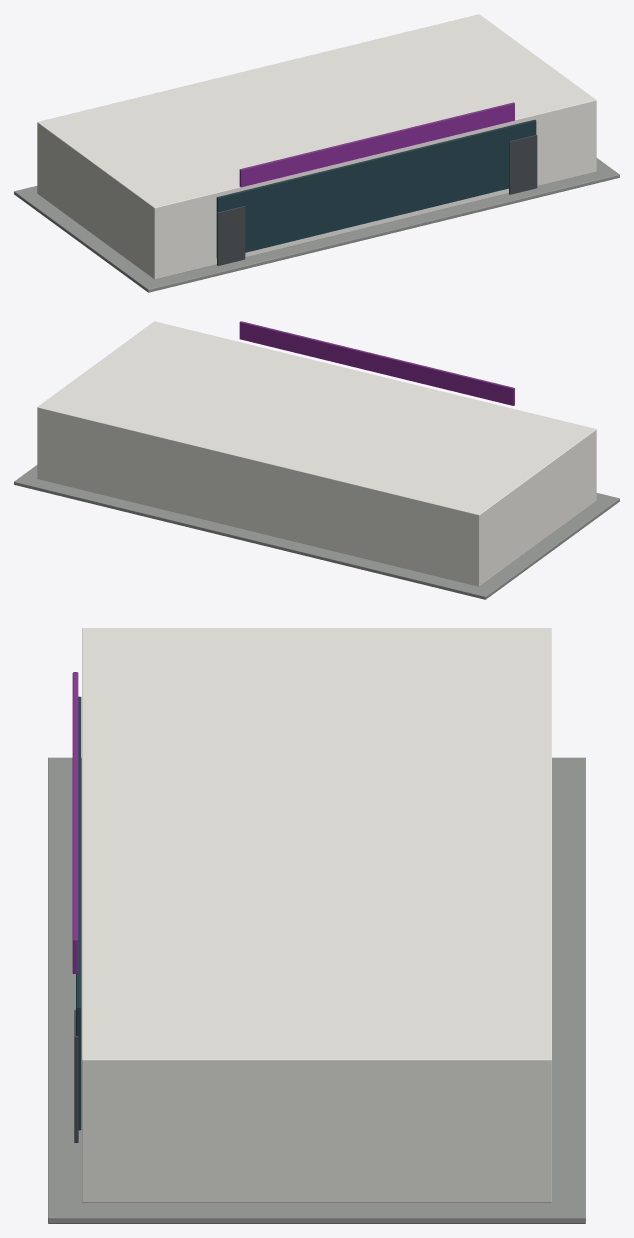
Rendered from Building_Commercial_012.glb.
3 views of the same model, one above another, from view 1: azimuth 30°, elevation 25°; view 2: azimuth 150°, elevation 25°; view 3: azimuth 270°, elevation 25° (orthographic). The views are drawn at different scales.
Parts seen in each view (by area): view 1: Building_Commercial_012; view 2: Building_Commercial_012; view 3: Building_Commercial_012.
Part boxes in pixels (box(x1,y1,x2,y2)): Building_Commercial_012: box(14, 14, 619, 292); Building_Commercial_012: box(14, 321, 619, 599); Building_Commercial_012: box(48, 628, 585, 1223).
Size of the model in its own units: 24.04 by 4.59 by 11.87.
